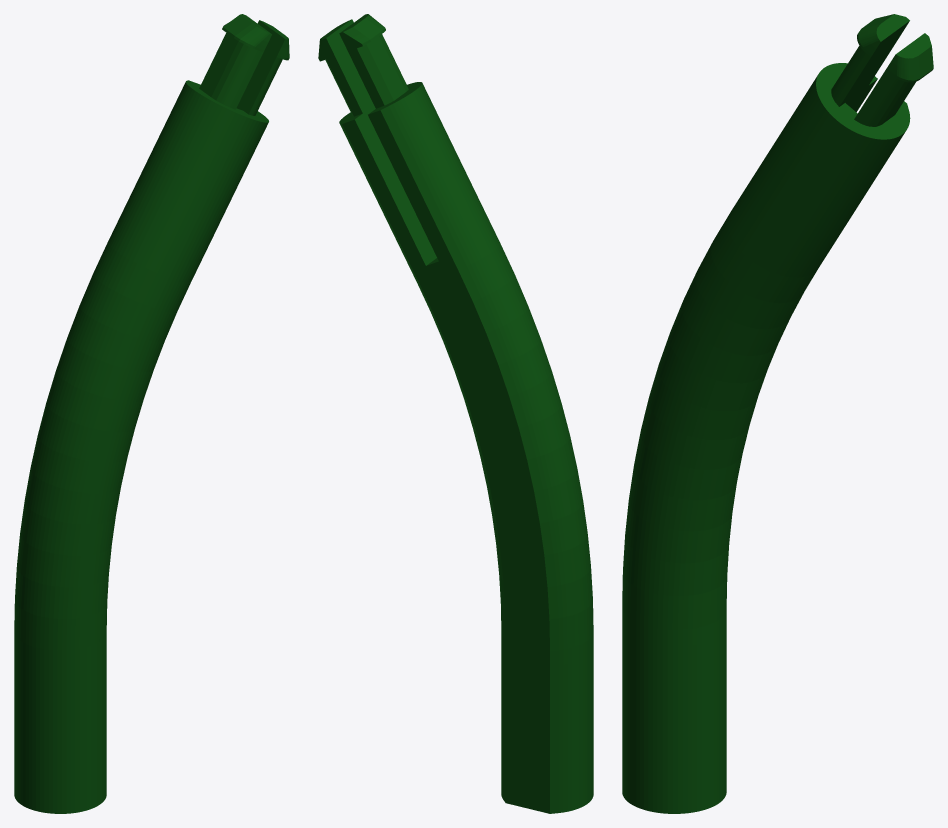
File: stem_1A_30_R.glb
3 renders of one model, left to right at view 1: azimuth 30°, elevation 25°; view 2: azimuth 150°, elevation 25°; view 3: azimuth 330°, elevation 25°, orthographic. The views are drawn at different scales.
Visible parts, largest first — view 1: stem_1A_30R; view 2: stem_1A_30R; view 3: stem_1A_30R.
Part boxes in pixels (<box>): stem_1A_30R: <box>14,14,289,813</box>; stem_1A_30R: <box>318,14,593,813</box>; stem_1A_30R: <box>622,14,933,813</box>.
Size of the model in its own units: 0.0236 by 0.0626 by 0.00666.
